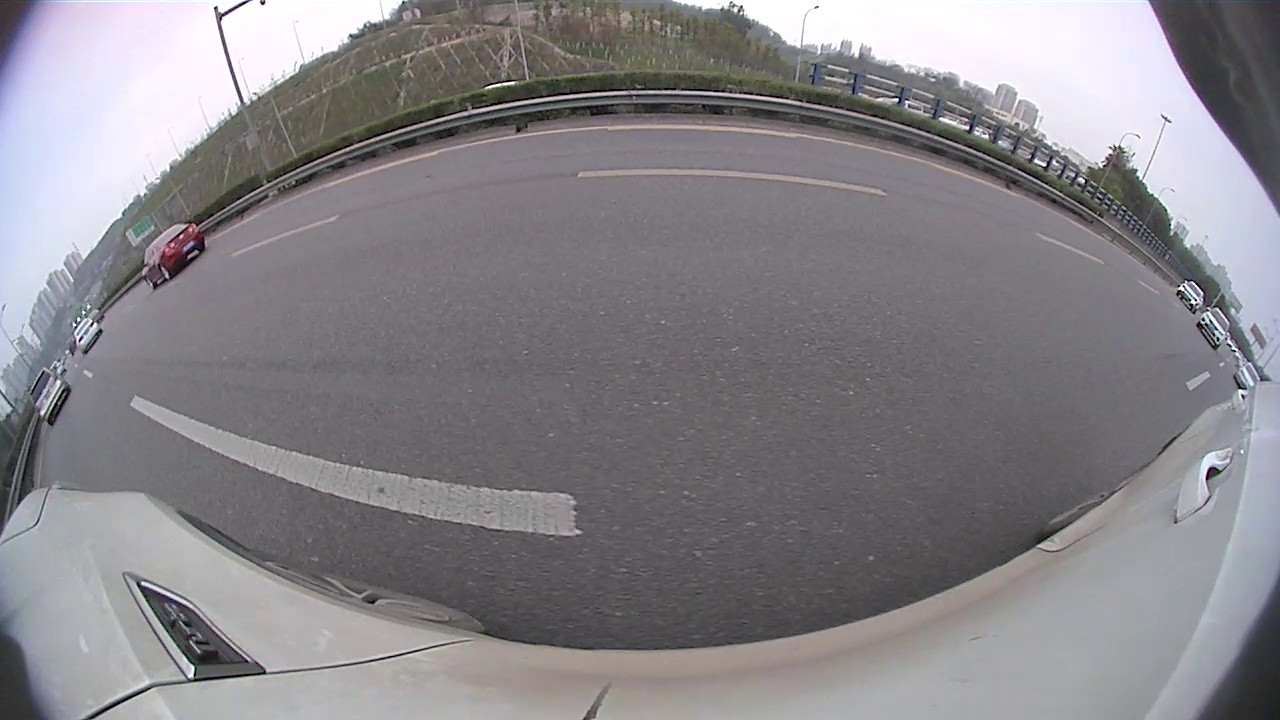bus: (838, 123, 1096, 260)
car: (1, 163, 416, 492), (1123, 290, 1279, 467), (584, 118, 767, 245), (1078, 240, 1276, 341), (765, 150, 901, 228), (449, 154, 559, 221), (544, 153, 590, 192)
front: (1171, 362, 1248, 462), (367, 217, 409, 283), (1089, 274, 1119, 313)
rear: (66, 346, 180, 482), (949, 202, 973, 236), (799, 186, 819, 221), (523, 184, 537, 211)
